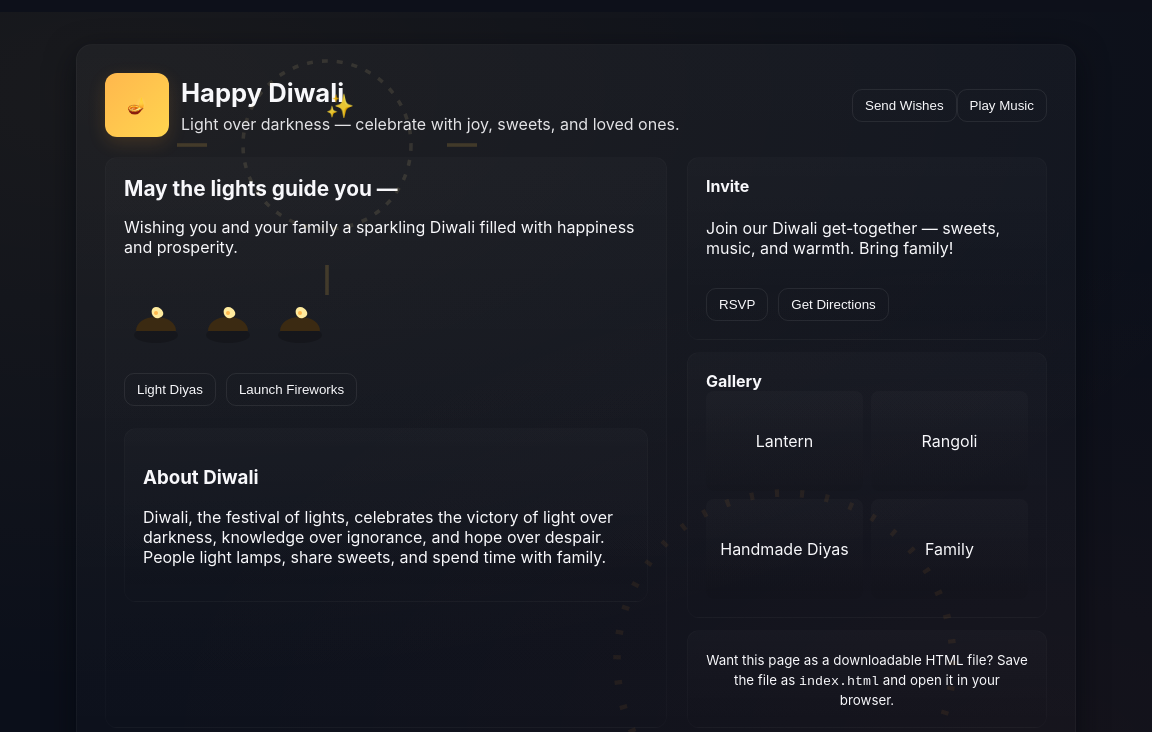
Scenario: 🎇 DiwaliPage Component Tests › plays and pauses music correctly with toast updates
Click the button "Play Music". click: (1002, 105)
box: [957,88,1047,122]
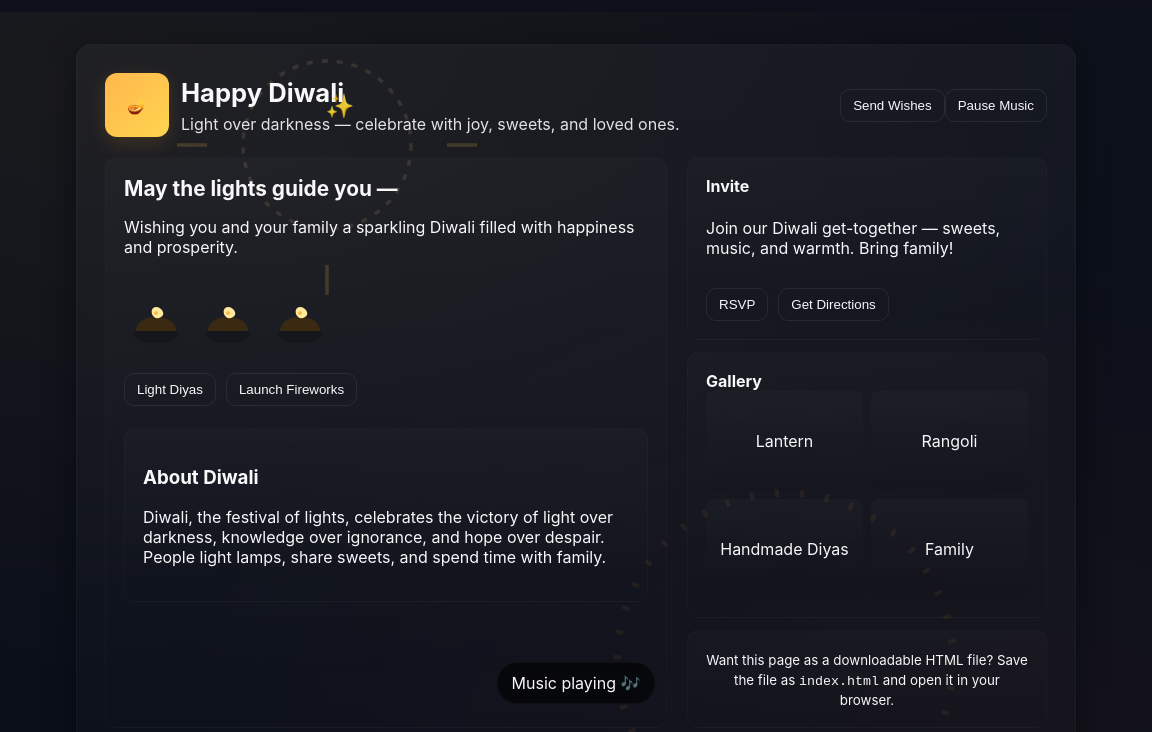
Check: the text "Music playing 🎶" is shown, box [496,662,655,704]
Check: the button "Pause Music" is shown
Click the button "Pause Music". click: (996, 105)
box: [945,88,1047,122]
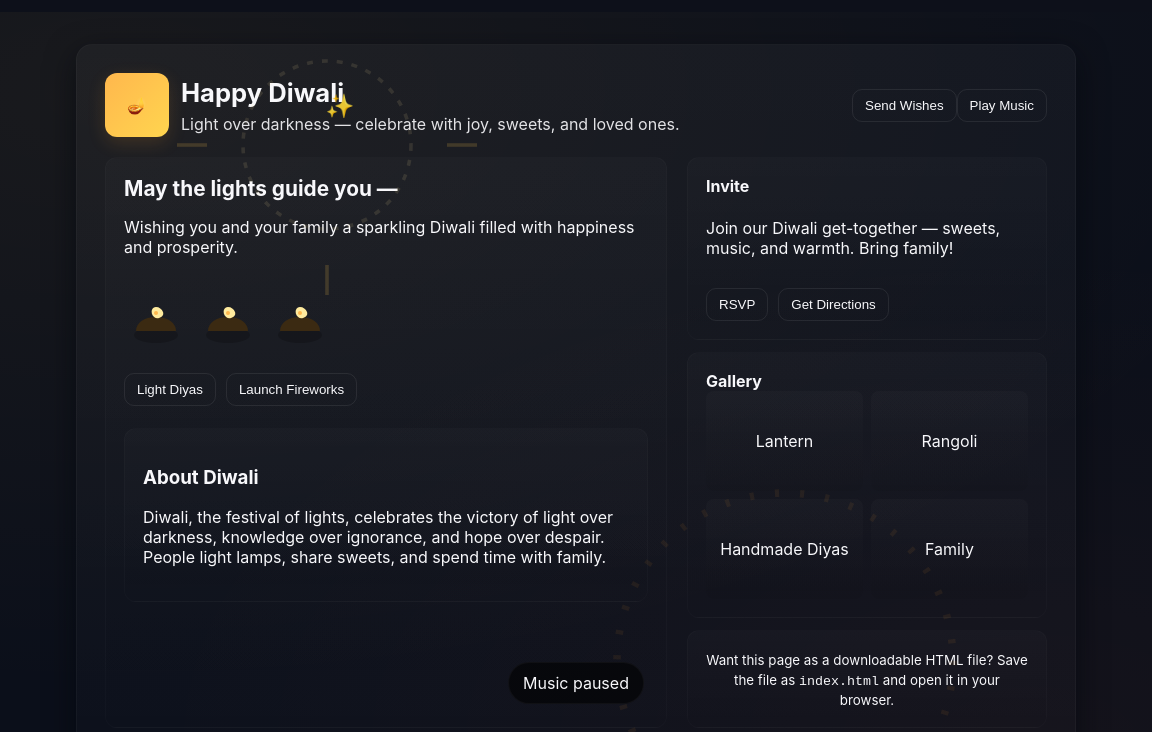
Check: the text "Music paused" is shown, box [508,662,644,704]
Check: the button "Play Music" is shown, box [957,88,1047,122]
